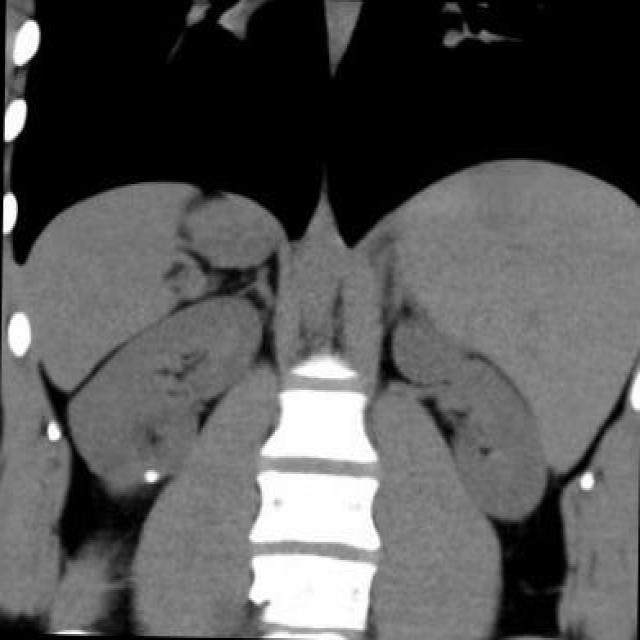Tas_Var: (139, 465, 161, 485)
